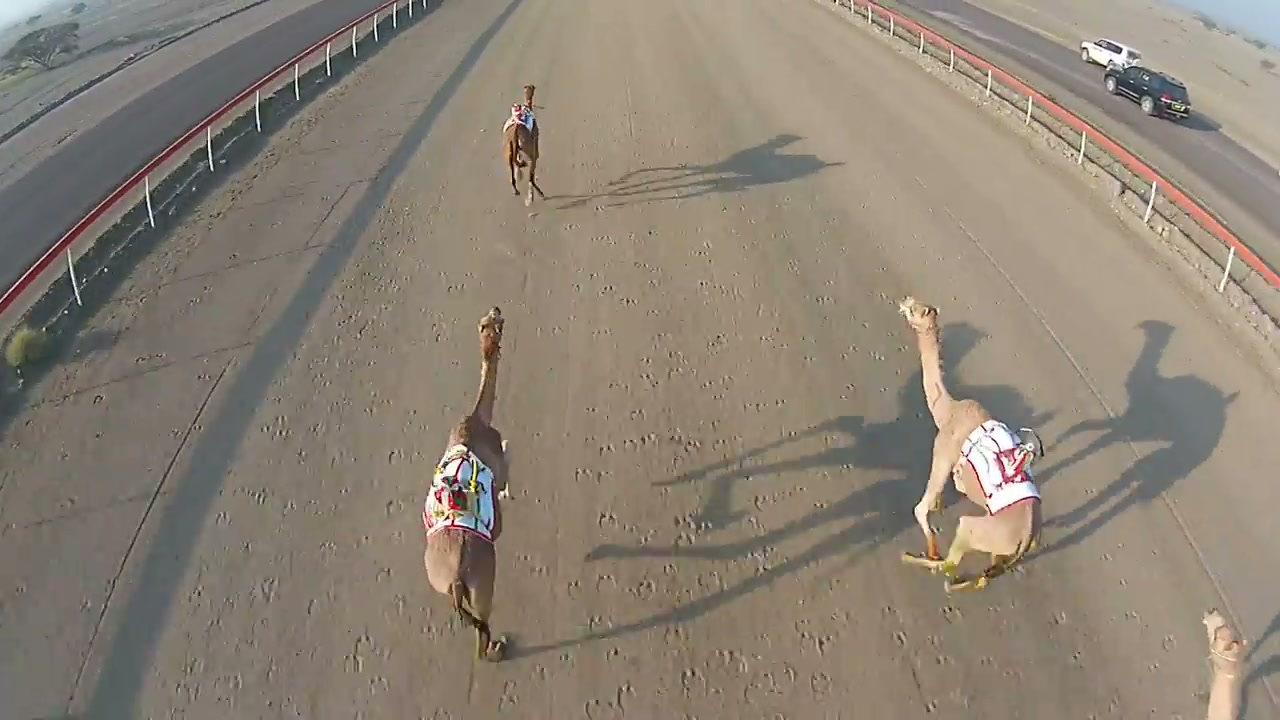animal_footprint: (102, 280, 422, 708), (555, 217, 824, 715)
